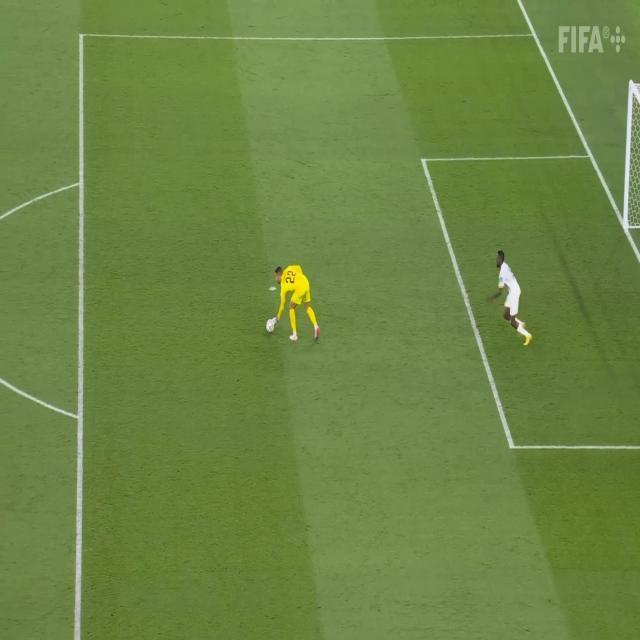football: (257, 314, 288, 338)
